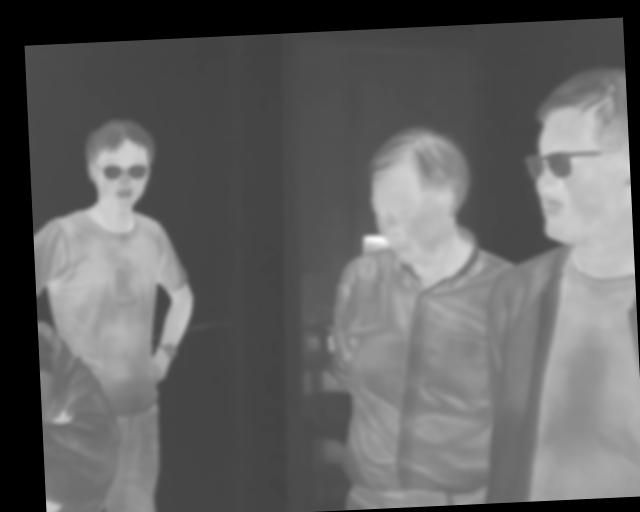face: (525, 65, 633, 245), (365, 124, 476, 265), (83, 116, 157, 214)
